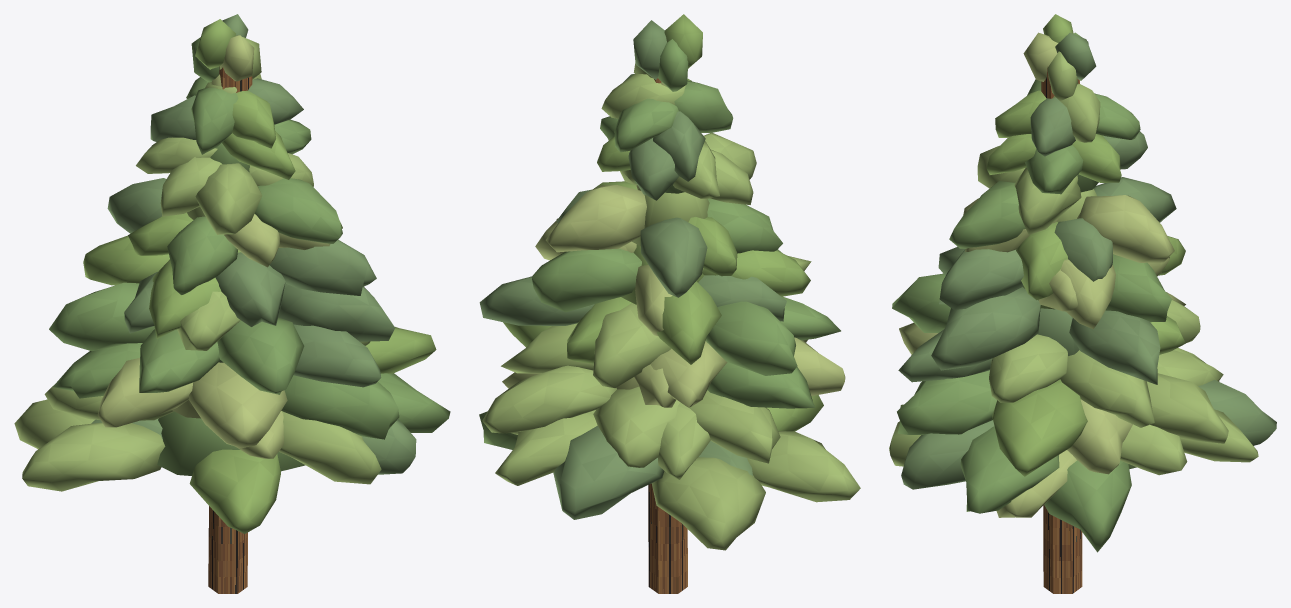
File: fir.glb
3 renders of one model, left to right at view 1: azimuth 30°, elevation 25°; view 2: azimuth 150°, elevation 25°; view 3: azimuth 270°, elevation 25°, orthographic.
Visible parts, largest first — view 1: fir_leaf_2, fir_leaf_1, fir_leaf_4, fir_leaf_0, fir_leaf_3, fir_trunk; view 2: fir_leaf_1, fir_leaf_2, fir_leaf_4, fir_leaf_0, fir_leaf_3, fir_trunk; view 3: fir_leaf_4, fir_leaf_2, fir_leaf_1, fir_leaf_0, fir_leaf_3, fir_trunk.
Part boxes in pixels (box(x1,y1,x2,y2)): fir_leaf_2: box(49, 37, 450, 475); fir_leaf_1: box(14, 37, 381, 491); fir_leaf_4: box(91, 14, 416, 474); fir_leaf_0: box(83, 19, 436, 533); fir_leaf_3: box(97, 35, 330, 458); fir_trunk: box(208, 66, 252, 593); fir_leaf_1: box(482, 63, 860, 550); fir_leaf_2: box(479, 39, 840, 449); fir_leaf_4: box(479, 20, 786, 519); fir_leaf_0: box(503, 14, 823, 431); fir_leaf_3: box(502, 82, 845, 407); fir_trunk: box(648, 78, 687, 593); fir_leaf_4: box(898, 33, 1276, 489); fir_leaf_2: box(892, 32, 1171, 552); fir_leaf_1: box(889, 51, 1258, 475); fir_leaf_0: box(900, 14, 1185, 476); fir_leaf_3: box(899, 32, 1185, 517); fir_trunk: box(1041, 68, 1082, 593).
Size of the model in its own units: 3.6 by 5.15 by 3.19.
6 materials, 1 textured.
